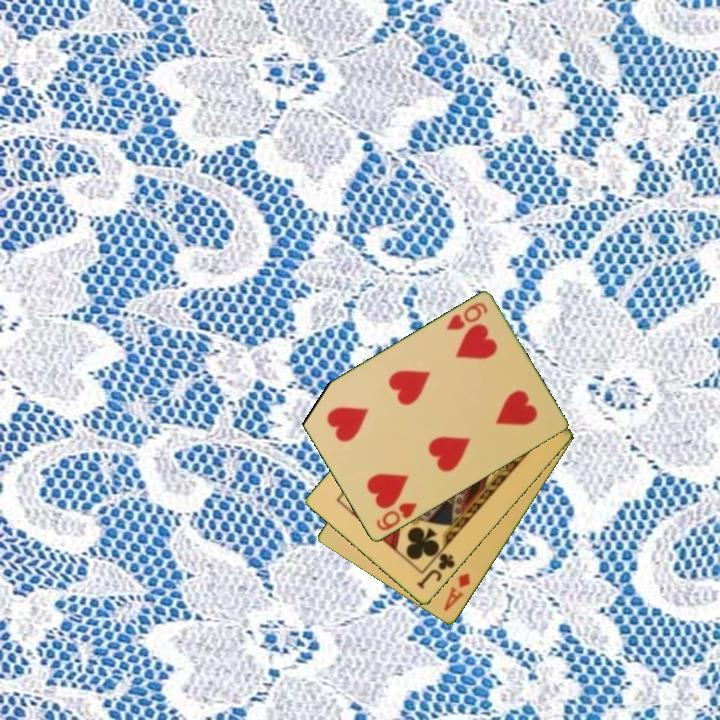6h: (372, 499, 420, 534), (442, 299, 490, 334)
Ad: (440, 570, 473, 615)
Jc: (413, 550, 458, 592)
